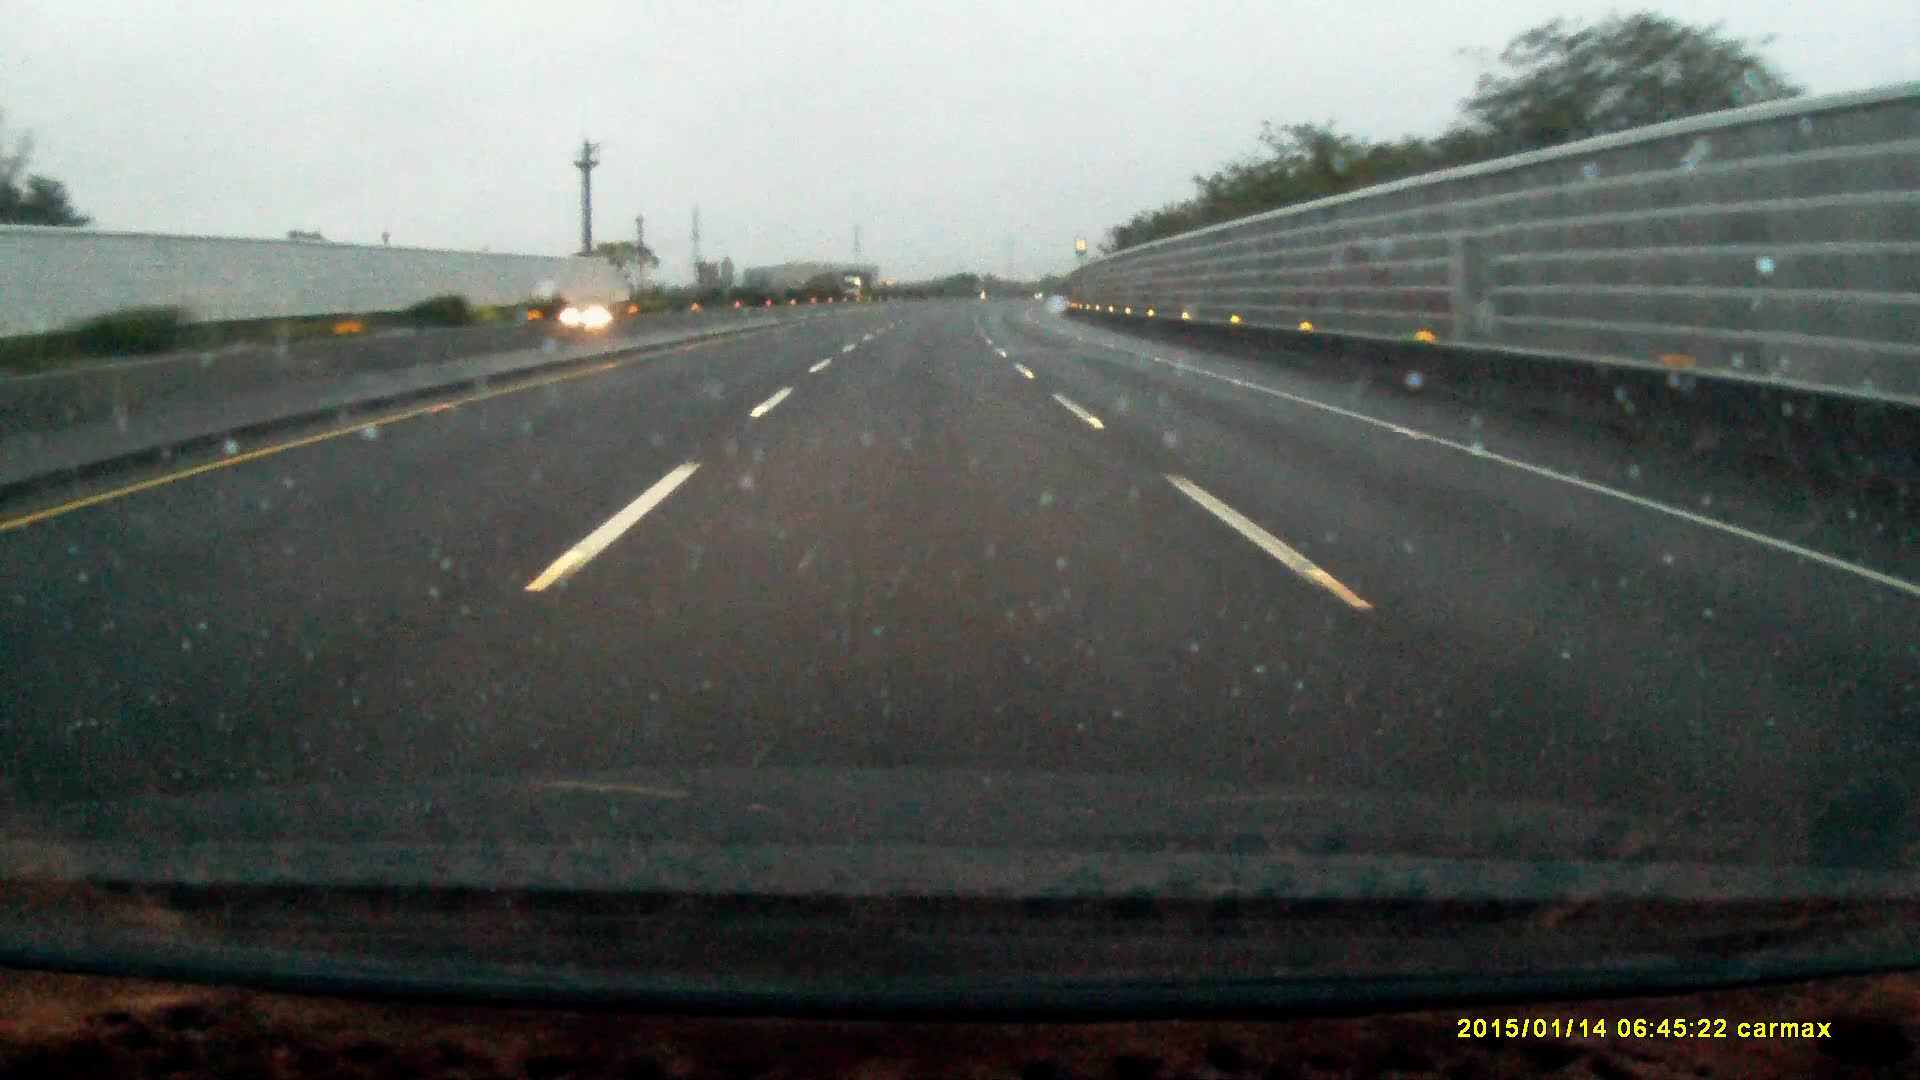vehicle: (556, 297, 636, 340), (843, 276, 876, 305)
